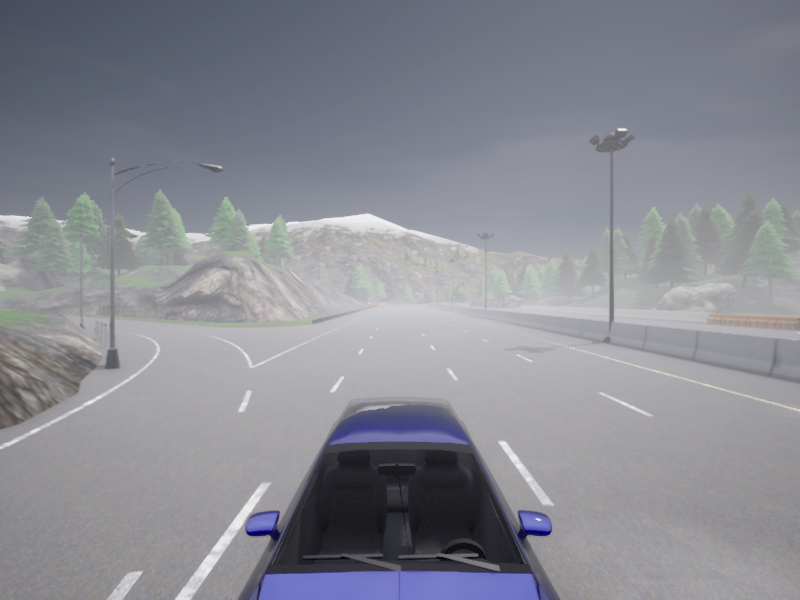vehicle: (237, 396, 559, 599), (454, 302, 455, 303)
